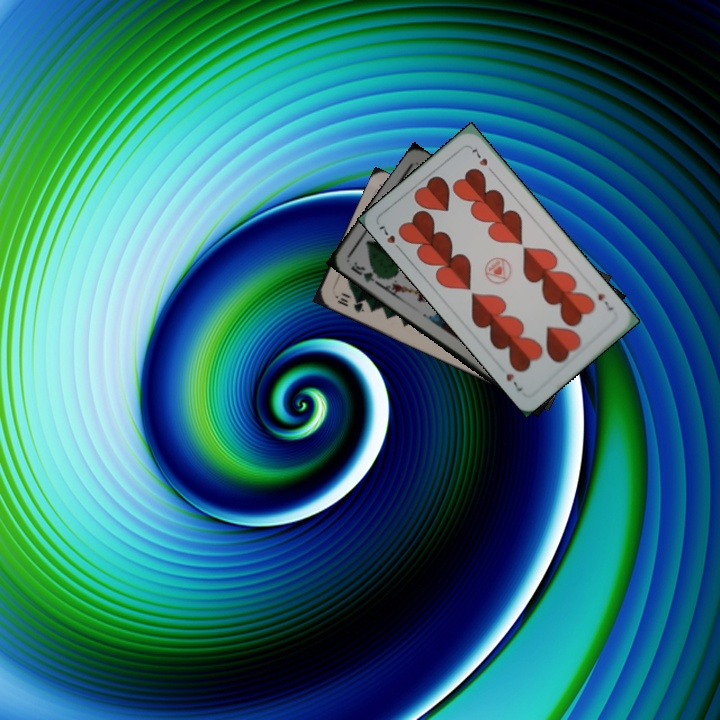G10: (331, 291, 367, 315)
GK: (346, 258, 384, 287)
H7: (375, 222, 405, 254), (594, 289, 616, 314)
